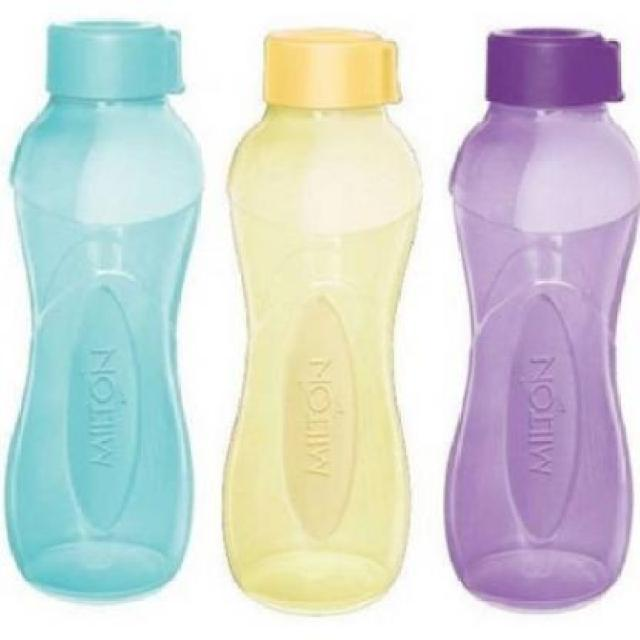Drinking: (8, 18, 210, 610), (236, 20, 430, 618), (459, 21, 627, 607)
